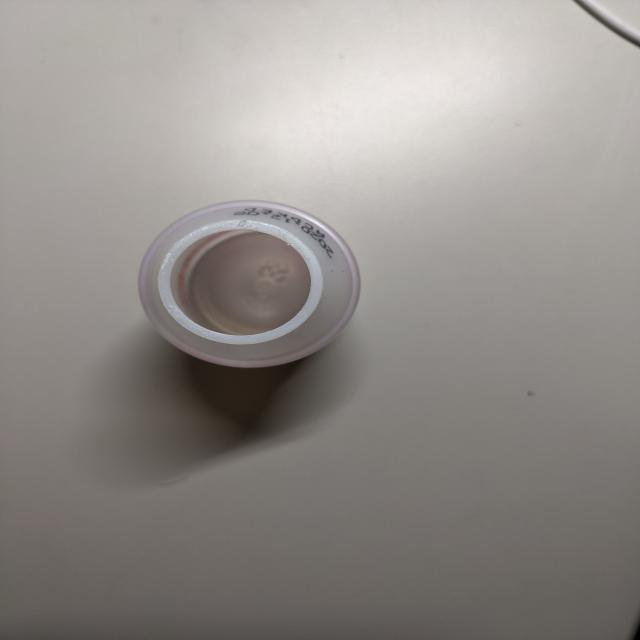Plastic: (136, 197, 362, 371)
